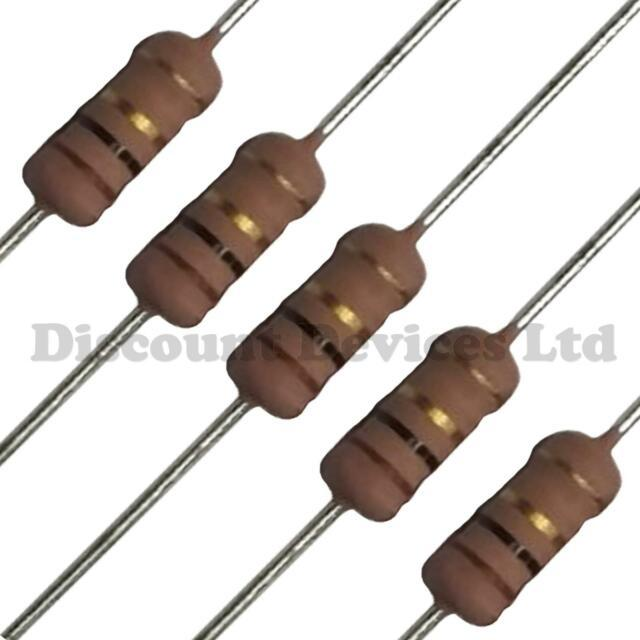Resistor: (229, 206, 428, 436), (109, 114, 331, 317), (6, 34, 228, 225), (331, 320, 518, 527), (448, 417, 606, 638)
